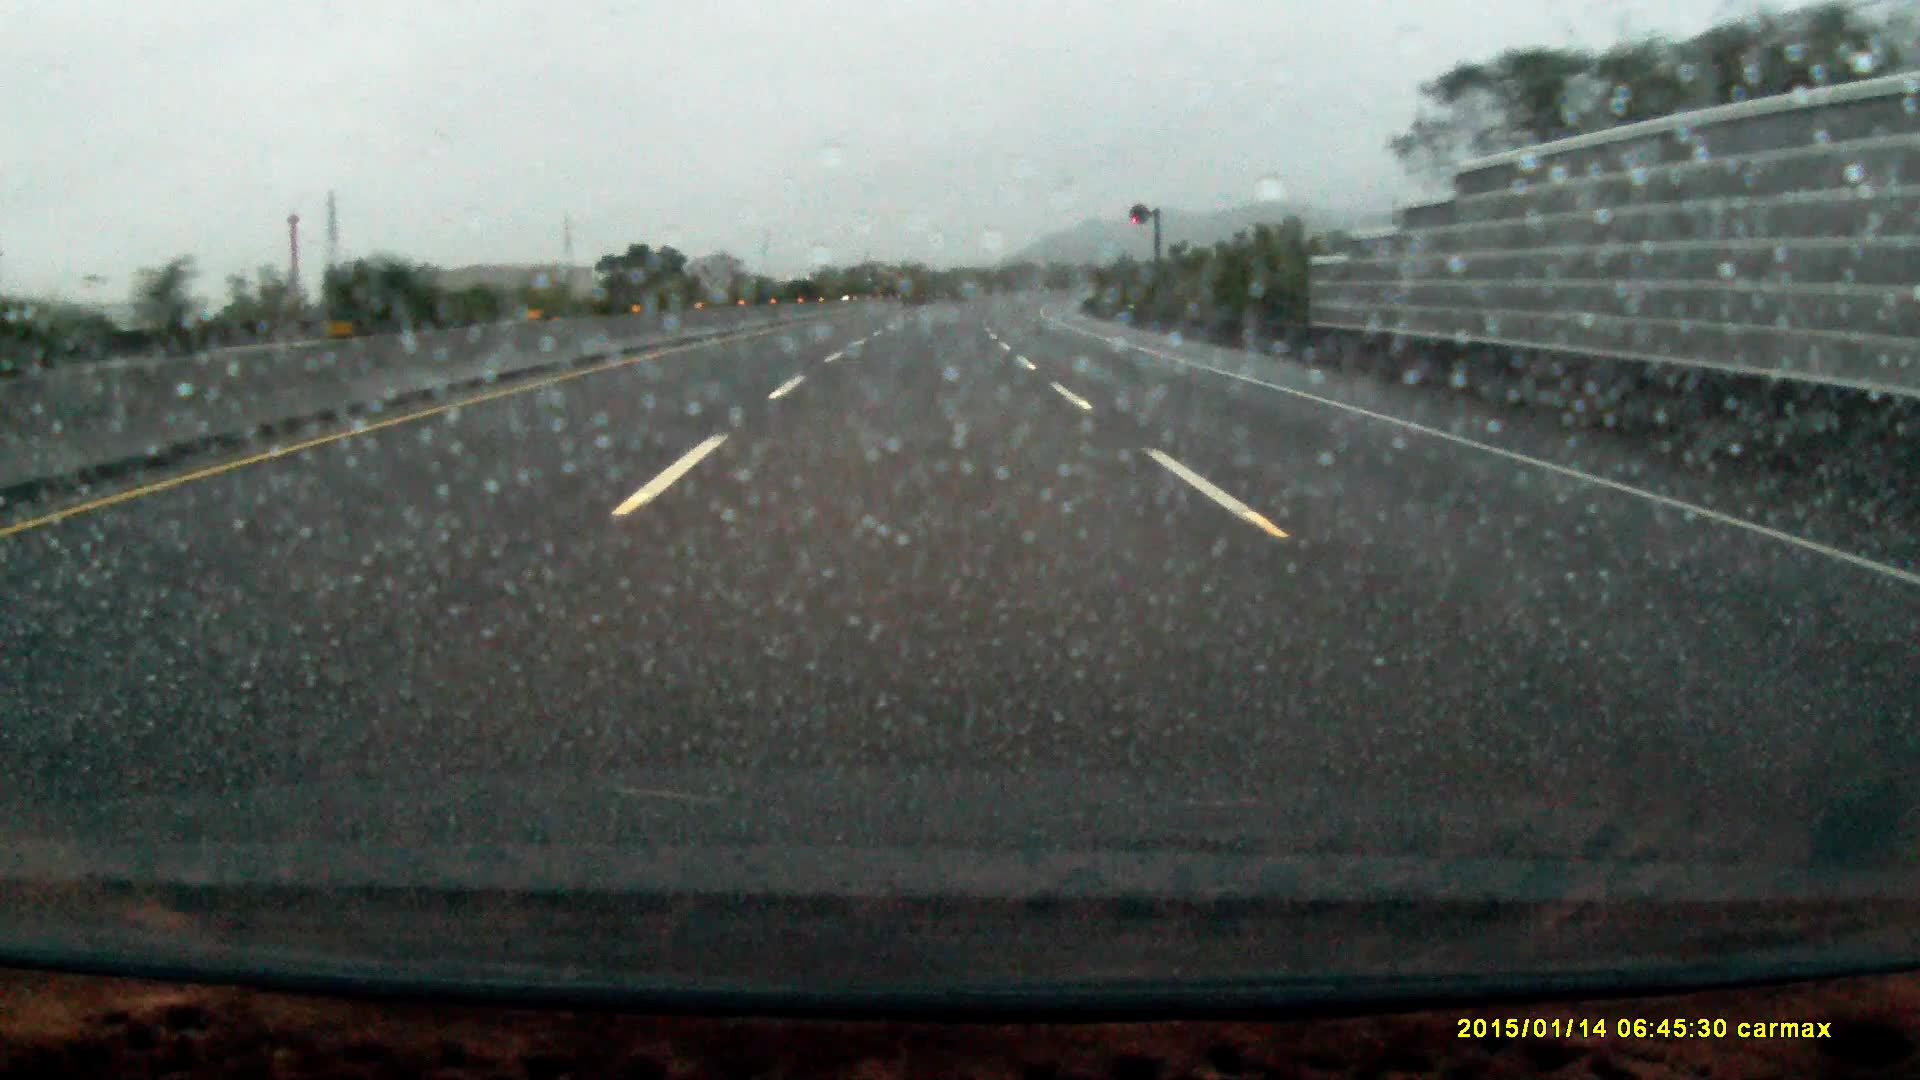vehicle: (857, 270, 898, 305)
